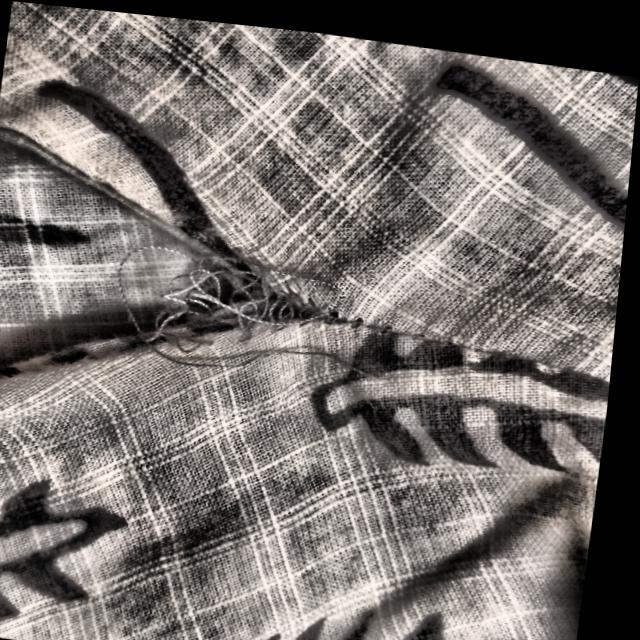Stitch: (103, 210, 410, 399)
